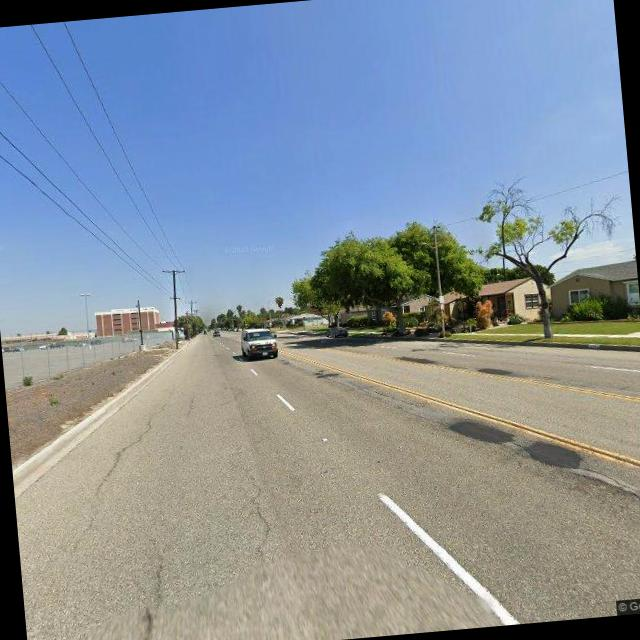pothole: (76, 406, 167, 502), (244, 485, 276, 561), (178, 388, 198, 426)
